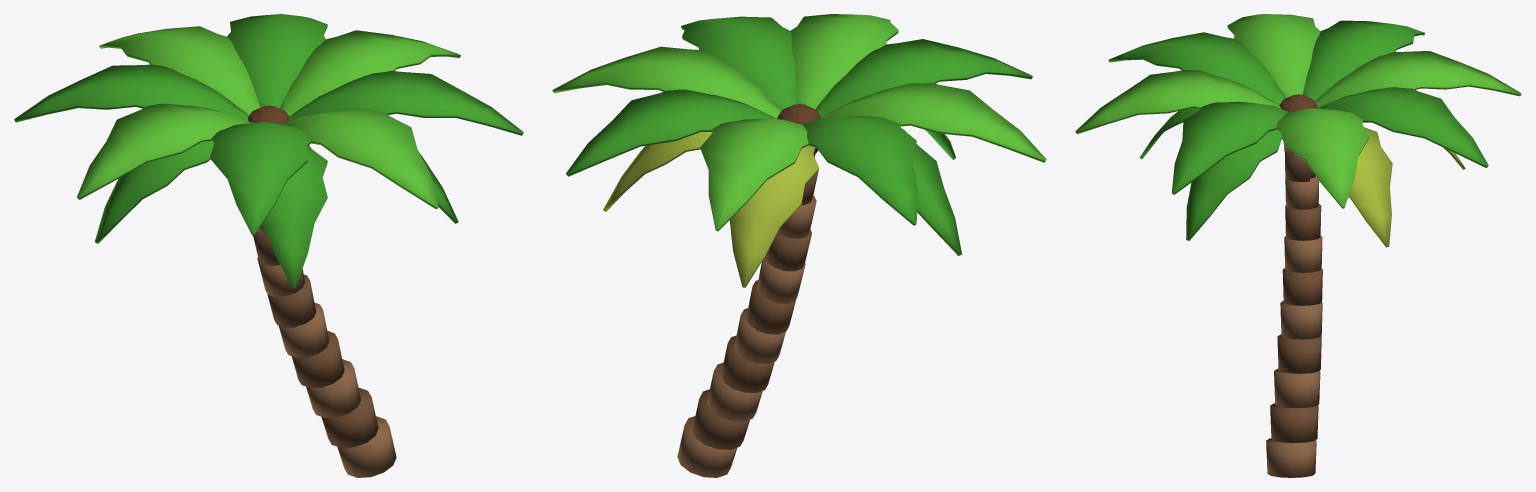
The model's file is nogita_black_pine.fbx.
3 views of the same model, side by side, from view 1: azimuth 30°, elevation 25°; view 2: azimuth 150°, elevation 25°; view 3: azimuth 270°, elevation 25° (orthographic). The views are drawn at different scales.
Visible parts, largest first — view 1: Cone; view 2: Cone; view 3: Cone.
Boxes of the visible parts, <box> form: Cone: <box>14,14,523,477</box>; Cone: <box>552,14,1046,477</box>; Cone: <box>1075,14,1521,477</box>.
Size of the model in its own units: 3.72 by 3.34 by 3.72.
